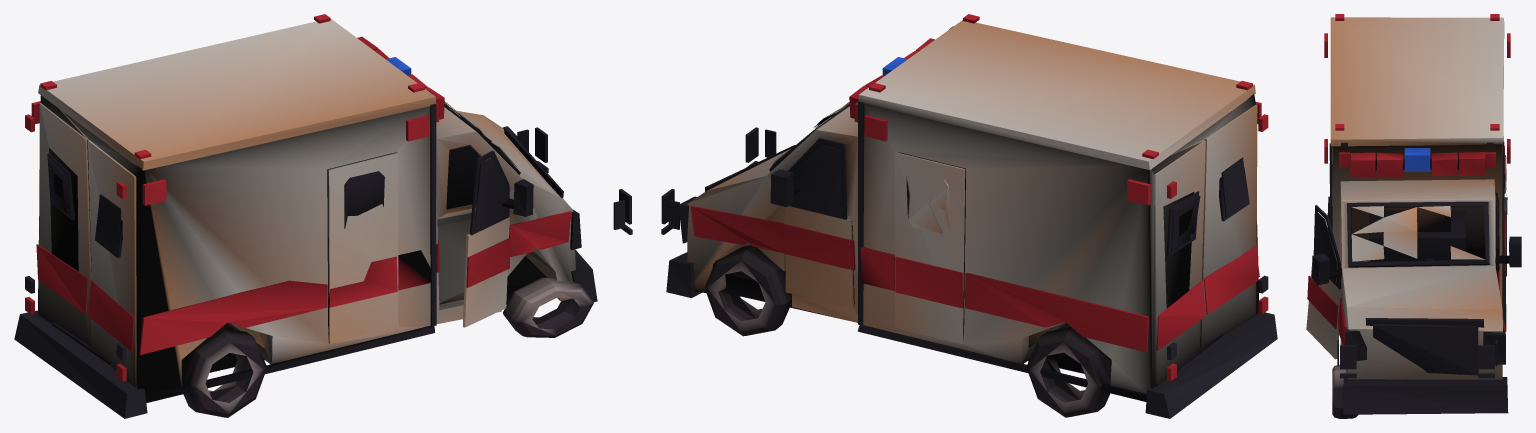
Rendered from veh.ambulance.wrecked.lod2.glb.
3 renders of one model, left to right at view 1: azimuth 30°, elevation 25°; view 2: azimuth 150°, elevation 25°; view 3: azimuth 270°, elevation 25°, orthographic. The views are drawn at different scales.
Parts seen in each view (by area): view 1: body, wheelRL, wheelFL; view 2: body, wheelRR, wheelFR; view 3: body, wheelFL.
Part boxes in pixels (bbox=[...]): body: bbox=[14, 14, 632, 418]; wheelRL: bbox=[181, 327, 266, 417]; wheelFL: bbox=[503, 277, 593, 337]; body: bbox=[661, 14, 1277, 418]; wheelRR: bbox=[1027, 327, 1111, 417]; wheelFR: bbox=[705, 245, 791, 336]; body: bbox=[1306, 14, 1521, 414]; wheelFL: bbox=[1332, 364, 1358, 418].
Size of the model in its own units: 6.46 by 3.39 by 2.83.
